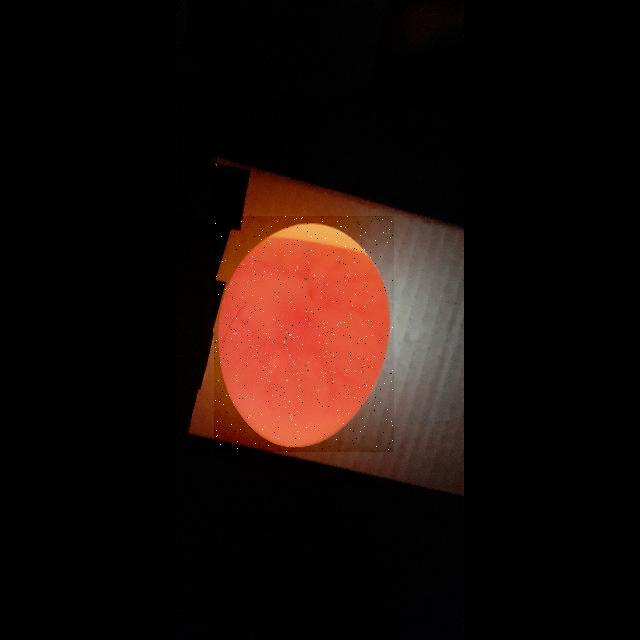Fertile: (214, 216, 394, 452)
